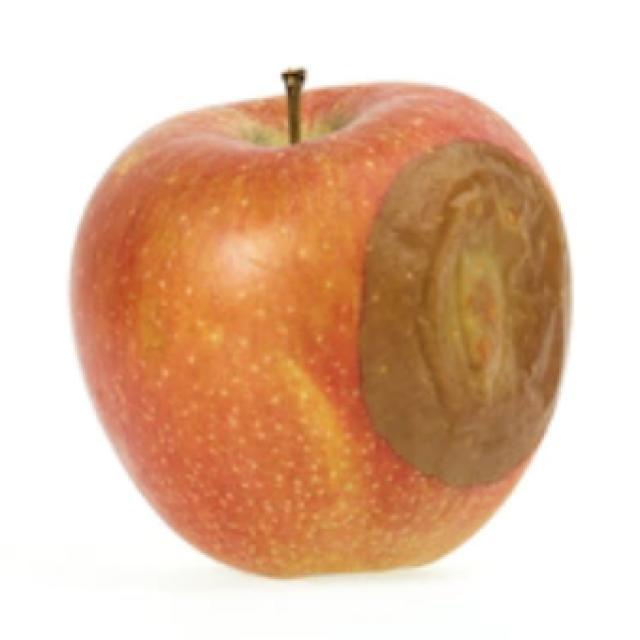Rotten: (73, 80, 572, 567)
